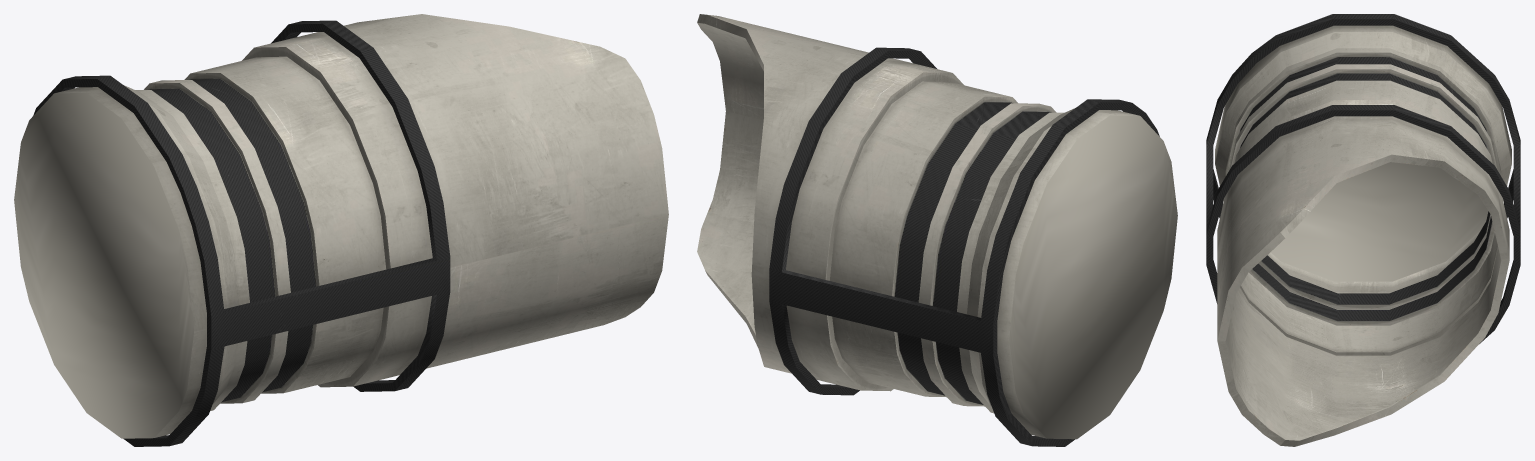
The model's file is guard_1_c_d.glb.
3 renders of one model, left to right at view 1: azimuth 30°, elevation 25°; view 2: azimuth 150°, elevation 25°; view 3: azimuth 270°, elevation 25°, orthographic. The views are drawn at different scales.
Parts seen in each view (by area): view 1: guard_1_c_d_lod0; view 2: guard_1_c_d_lod0; view 3: guard_1_c_d_lod0.
Boxes of the visible parts, <box> form: guard_1_c_d_lod0: <box>14,14,668,446</box>; guard_1_c_d_lod0: <box>697,14,1177,446</box>; guard_1_c_d_lod0: <box>1206,14,1520,446</box>.
Size of what is drawn, in the model's own units: 0.0473 by 0.0324 by 0.0328.
Materials: 1 (1 with a texture image).
